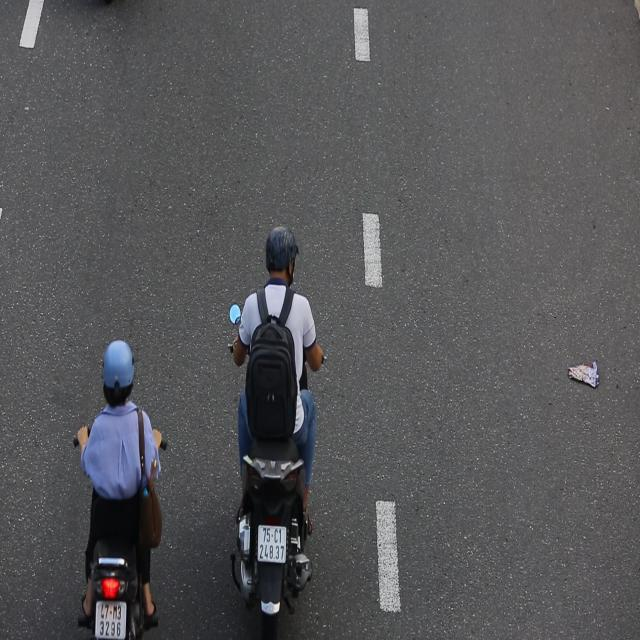motorbike: (222, 225, 326, 637), (67, 335, 177, 640)
